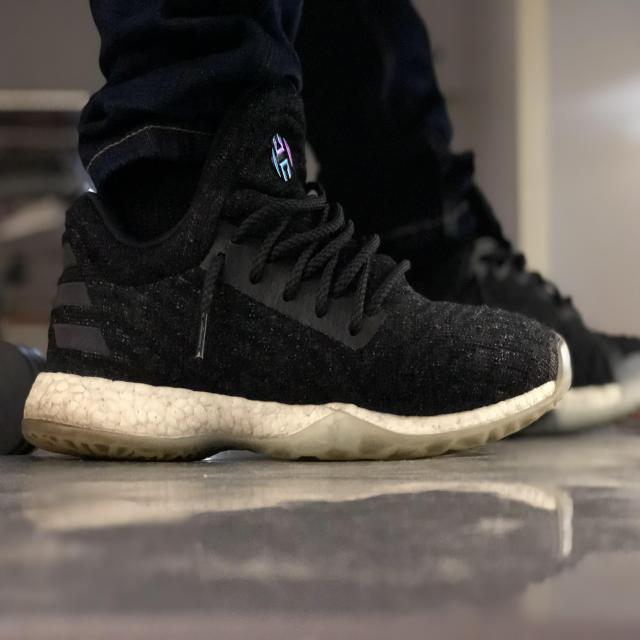shoe: (20, 203, 572, 460), (373, 180, 640, 424)
